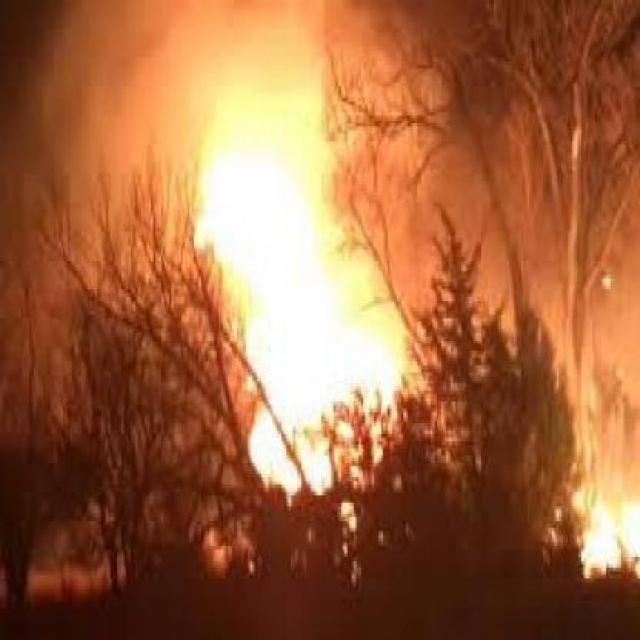Fire: (215, 268, 453, 508), (530, 415, 639, 640)
